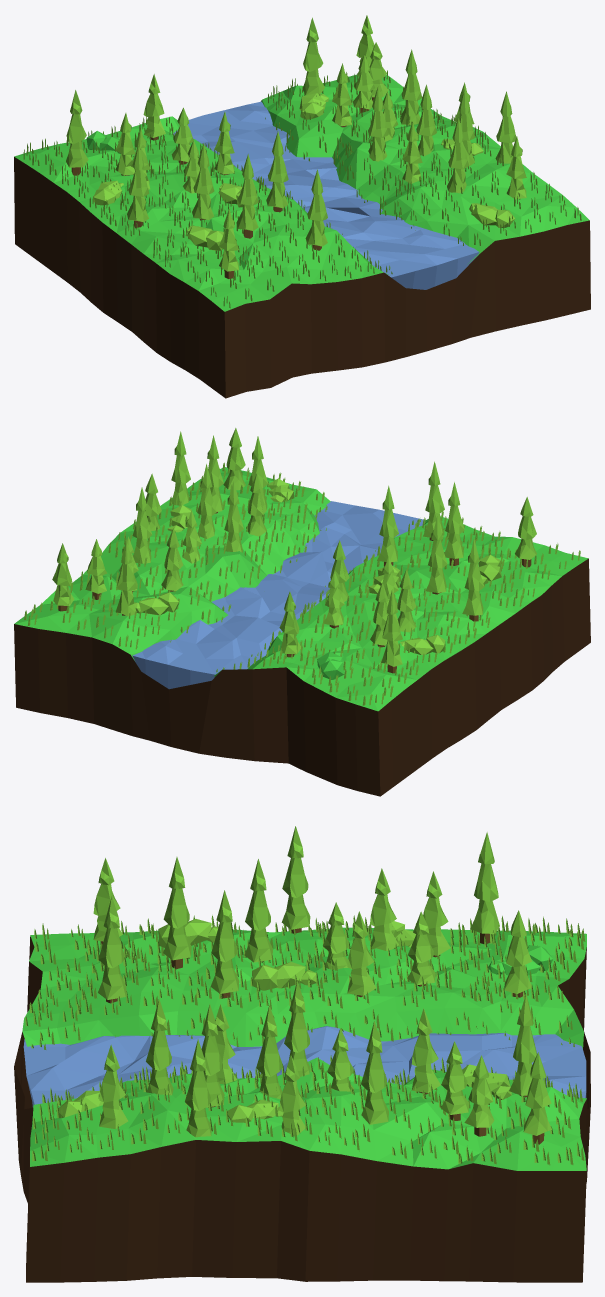
File: rIVER.fbx
3 views of the same model, one above another, from view 1: azimuth 30°, elevation 25°; view 2: azimuth 150°, elevation 25°; view 3: azimuth 270°, elevation 25° (orthographic). The views are drawn at different scales.
Parts seen in each view (by area): view 1: Plane.003, Plane, Plane.001, Cylinder.006, Cylinder.025, Cylinder.026, Cylinder.003, Cylinder.009, Cylinder.000, Cylinder.012, Cylinder.013, Cylinder.022 (+20 smaller); view 2: Plane.003, Plane, Plane.001, Cylinder.006, Cylinder.025, Cylinder.026, Cylinder.012, Cylinder.000, Cylinder.003, Cylinder.013, Cylinder.008, Cylinder.017 (+21 smaller); view 3: Plane.003, Plane, Plane.001, Cylinder.025, Cylinder.003, Cylinder.009, Cylinder.026, Cylinder.006, Cylinder.000, Cylinder.013, Cylinder.021, Cylinder.022 (+25 smaller).
Part boxes in pixels (bbox=[...]): Plane.003: bbox=[14, 100, 590, 398]; Plane: bbox=[14, 74, 589, 311]; Plane.001: bbox=[173, 101, 479, 289]; Cylinder.006: bbox=[66, 90, 88, 175]; Cylinder.025: bbox=[236, 154, 258, 238]; Cylinder.026: bbox=[127, 145, 149, 228]; Cylinder.003: bbox=[266, 131, 288, 212]; Cylinder.009: bbox=[305, 169, 327, 250]; Cylinder.000: bbox=[192, 143, 214, 220]; Cylinder.012: bbox=[303, 17, 324, 95]; Cylinder.013: bbox=[400, 49, 422, 125]; Cylinder.022: bbox=[447, 117, 469, 193]; Plane.003: bbox=[14, 558, 590, 796]; Plane: bbox=[14, 467, 588, 711]; Plane.001: bbox=[132, 501, 423, 689]; Cylinder.006: bbox=[381, 589, 402, 673]; Cylinder.025: bbox=[444, 482, 464, 565]; Cylinder.026: bbox=[462, 539, 484, 621]; Cylinder.012: bbox=[115, 539, 137, 616]; Cylinder.000: bbox=[425, 516, 447, 594]; Cylinder.003: bbox=[377, 485, 398, 566]; Cylinder.013: bbox=[132, 487, 152, 563]; Cylinder.008: bbox=[515, 497, 536, 567]; Cylinder.017: bbox=[197, 464, 216, 538]; Plane.003: bbox=[14, 936, 590, 1282]; Plane: bbox=[22, 927, 586, 1170]; Plane.001: bbox=[23, 1026, 586, 1107]; Cylinder.025: bbox=[163, 857, 191, 969]; Cylinder.003: bbox=[210, 890, 239, 998]; Cylinder.009: bbox=[98, 896, 126, 1003]; Cylinder.026: bbox=[281, 826, 310, 933]; Cylinder.006: bbox=[470, 832, 499, 943]; Cylinder.000: bbox=[244, 859, 272, 962]; Cylinder.013: bbox=[361, 1021, 388, 1124]; Cylinder.021: bbox=[185, 1039, 211, 1137]; Cylinder.022: bbox=[146, 998, 173, 1095].
Size of the model in its own units: 1552 by 735 by 1584.
